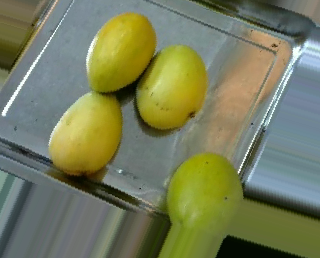Mango: (48, 91, 122, 174), (134, 46, 206, 130), (166, 154, 241, 231), (86, 13, 155, 93)
